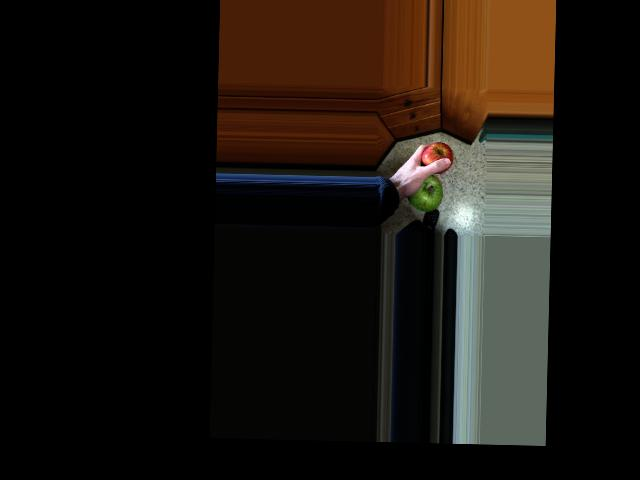apple: (403, 172, 445, 214)
